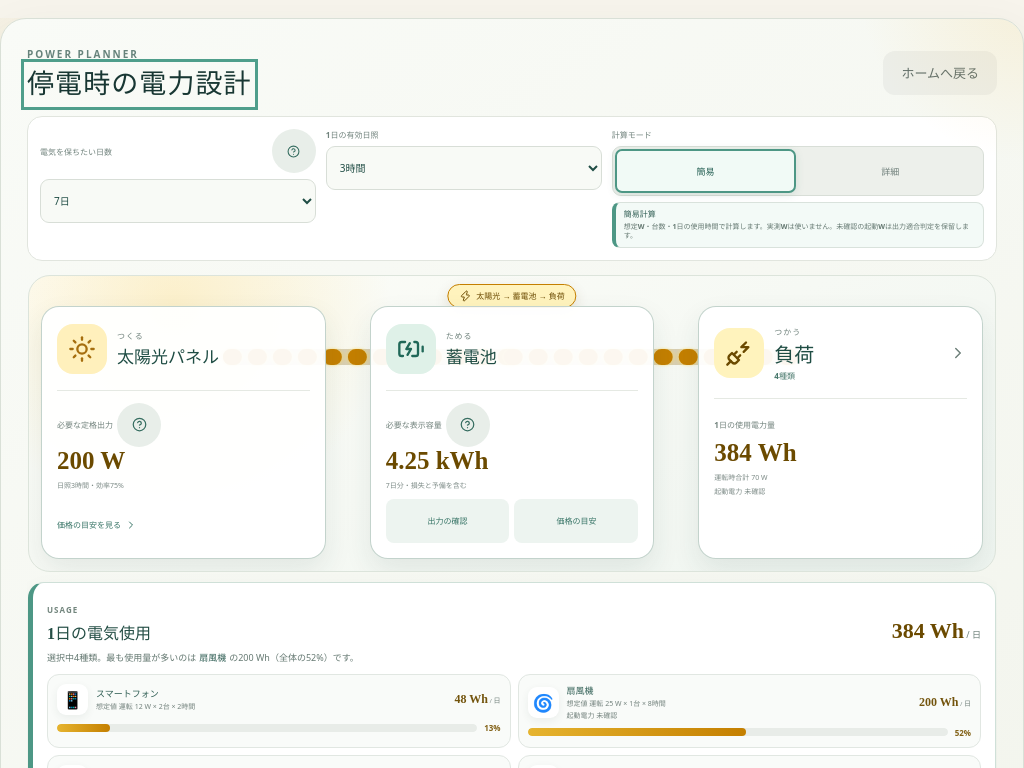
停電時の電力設計 › 負荷ボタンのウィンドウに全機器をまとめ、個数変更後の値を画面へ反映する
Step 1. Click the button with aria-label "負荷を調整" → x=841, y=353, box [714,322,967,385]
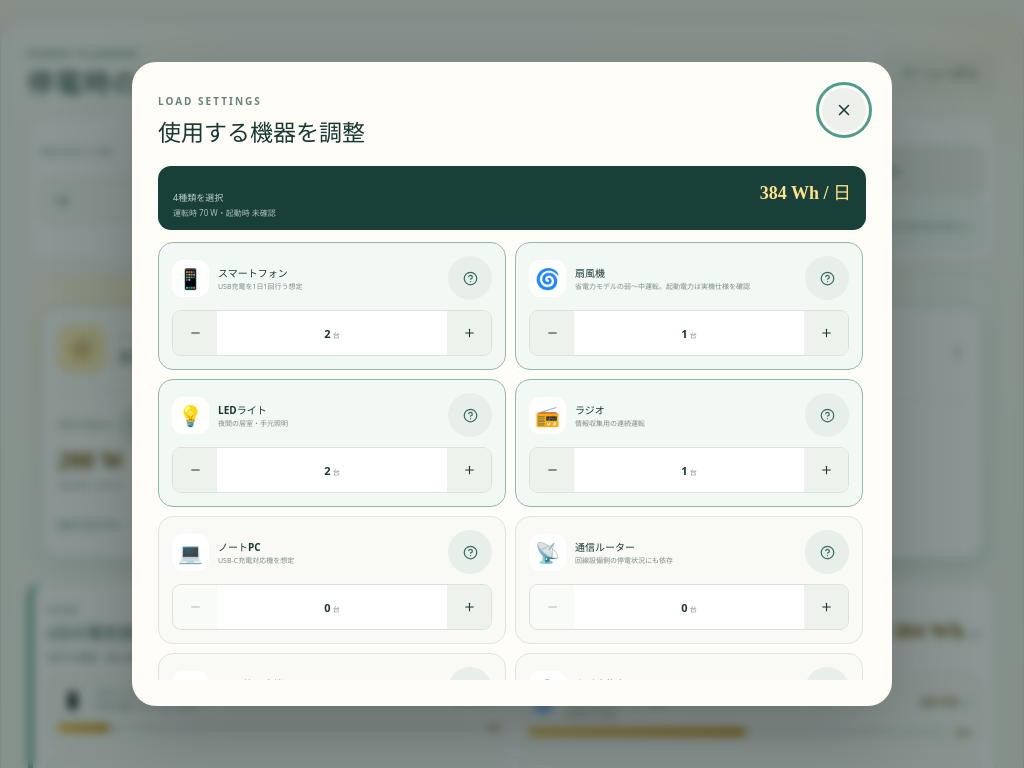
expect the text "4種類を選択" is shown: met, box [173,191,223,204]
expect the text "384 Wh / 日" is shown: met, box [760,178,851,204]
Step 2. Click the button named "スマートフォンを増やす" → x=469, y=333, box [447,311,491,355]
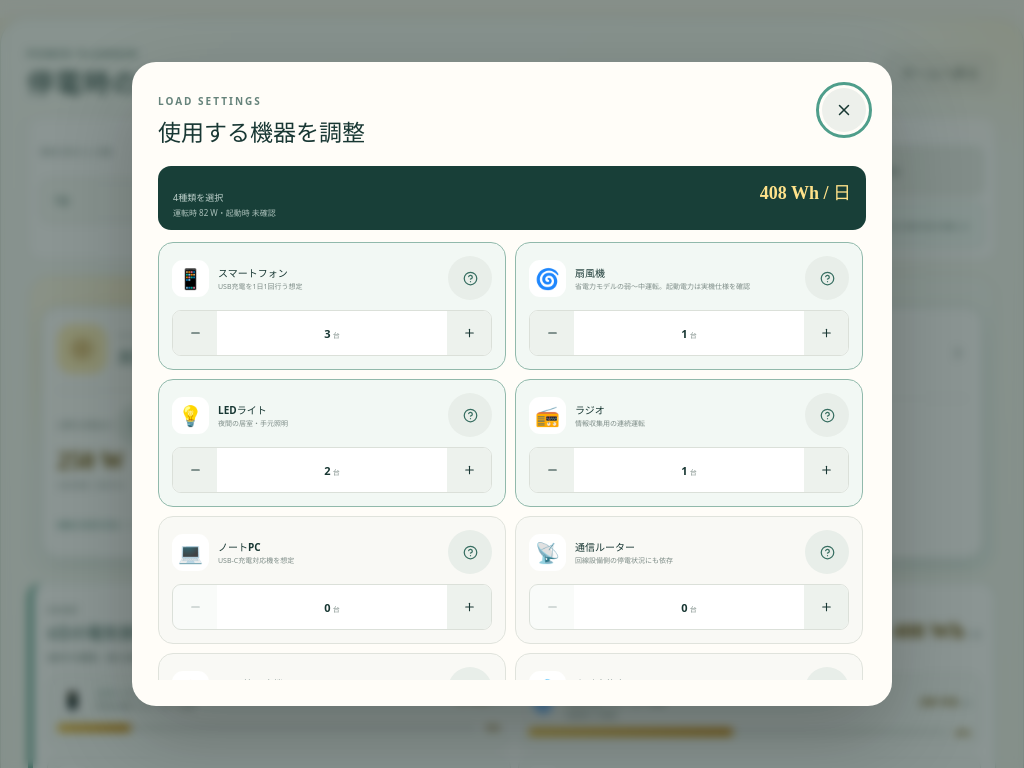
expect the text "408 Wh" is shown: met, box [714,439,796,466]
expect the text "408 Wh / 日" is shown: met, box [760,178,851,204]
